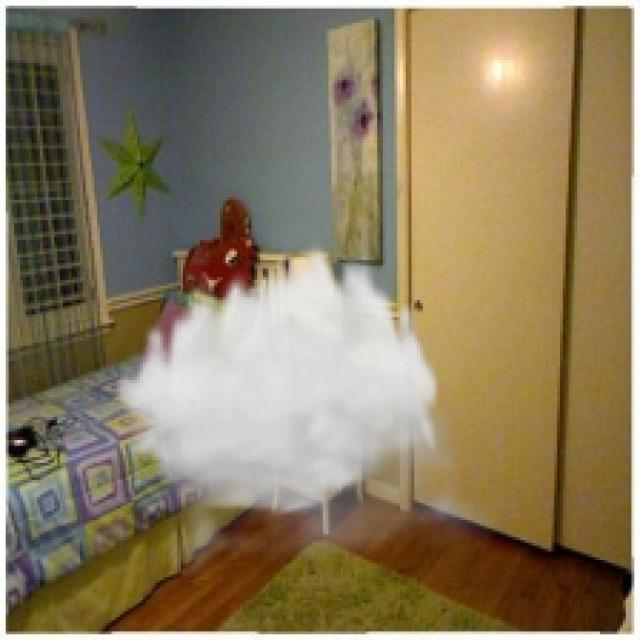Smoke: (111, 237, 512, 583)
